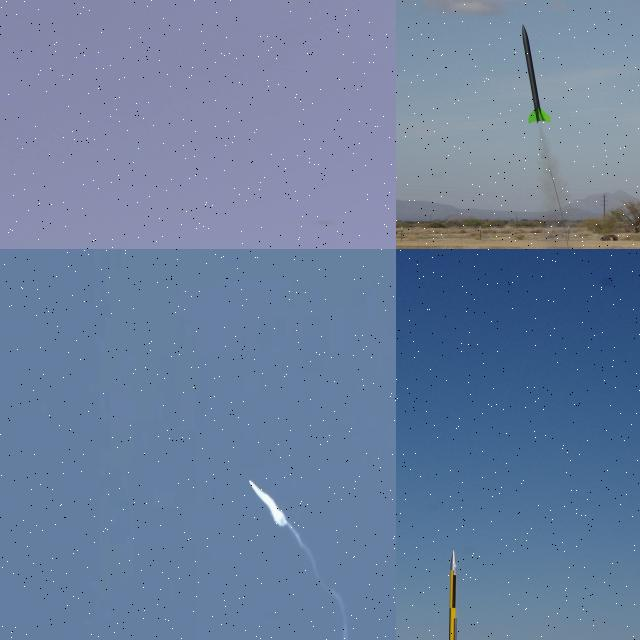Rocket: (522, 24, 552, 124), (442, 549, 466, 640), (248, 478, 250, 482)
